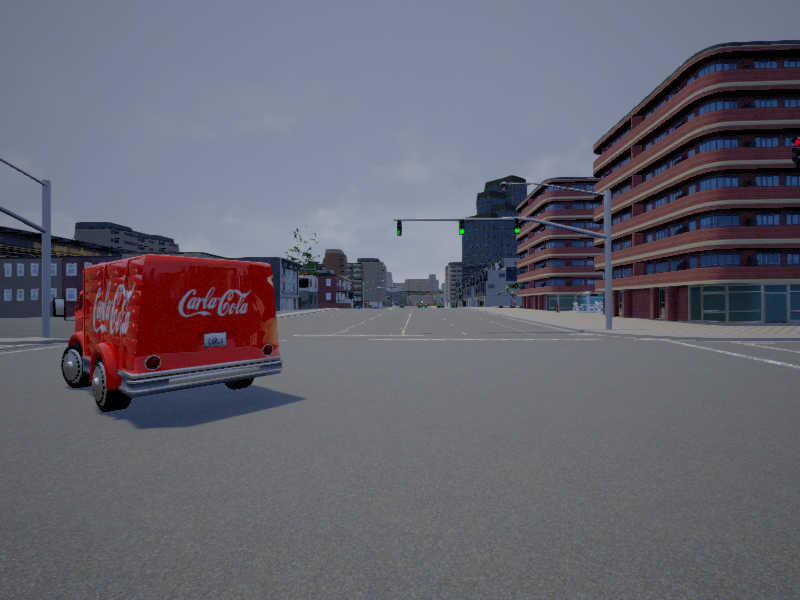Benign: (53, 259, 284, 411)
